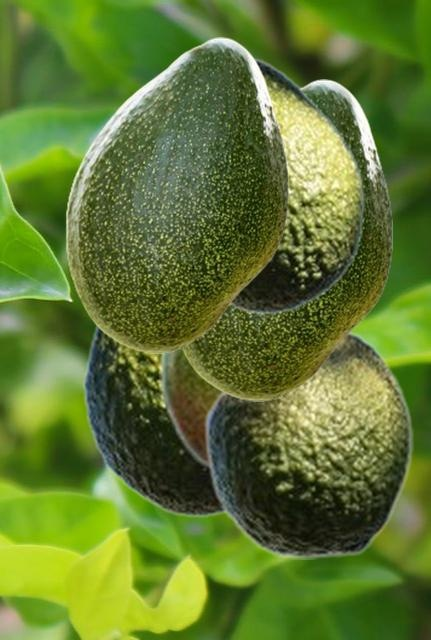avocado: (65, 37, 287, 352), (179, 79, 391, 400), (203, 328, 412, 558), (228, 57, 364, 314), (81, 321, 225, 517), (159, 350, 217, 472)
